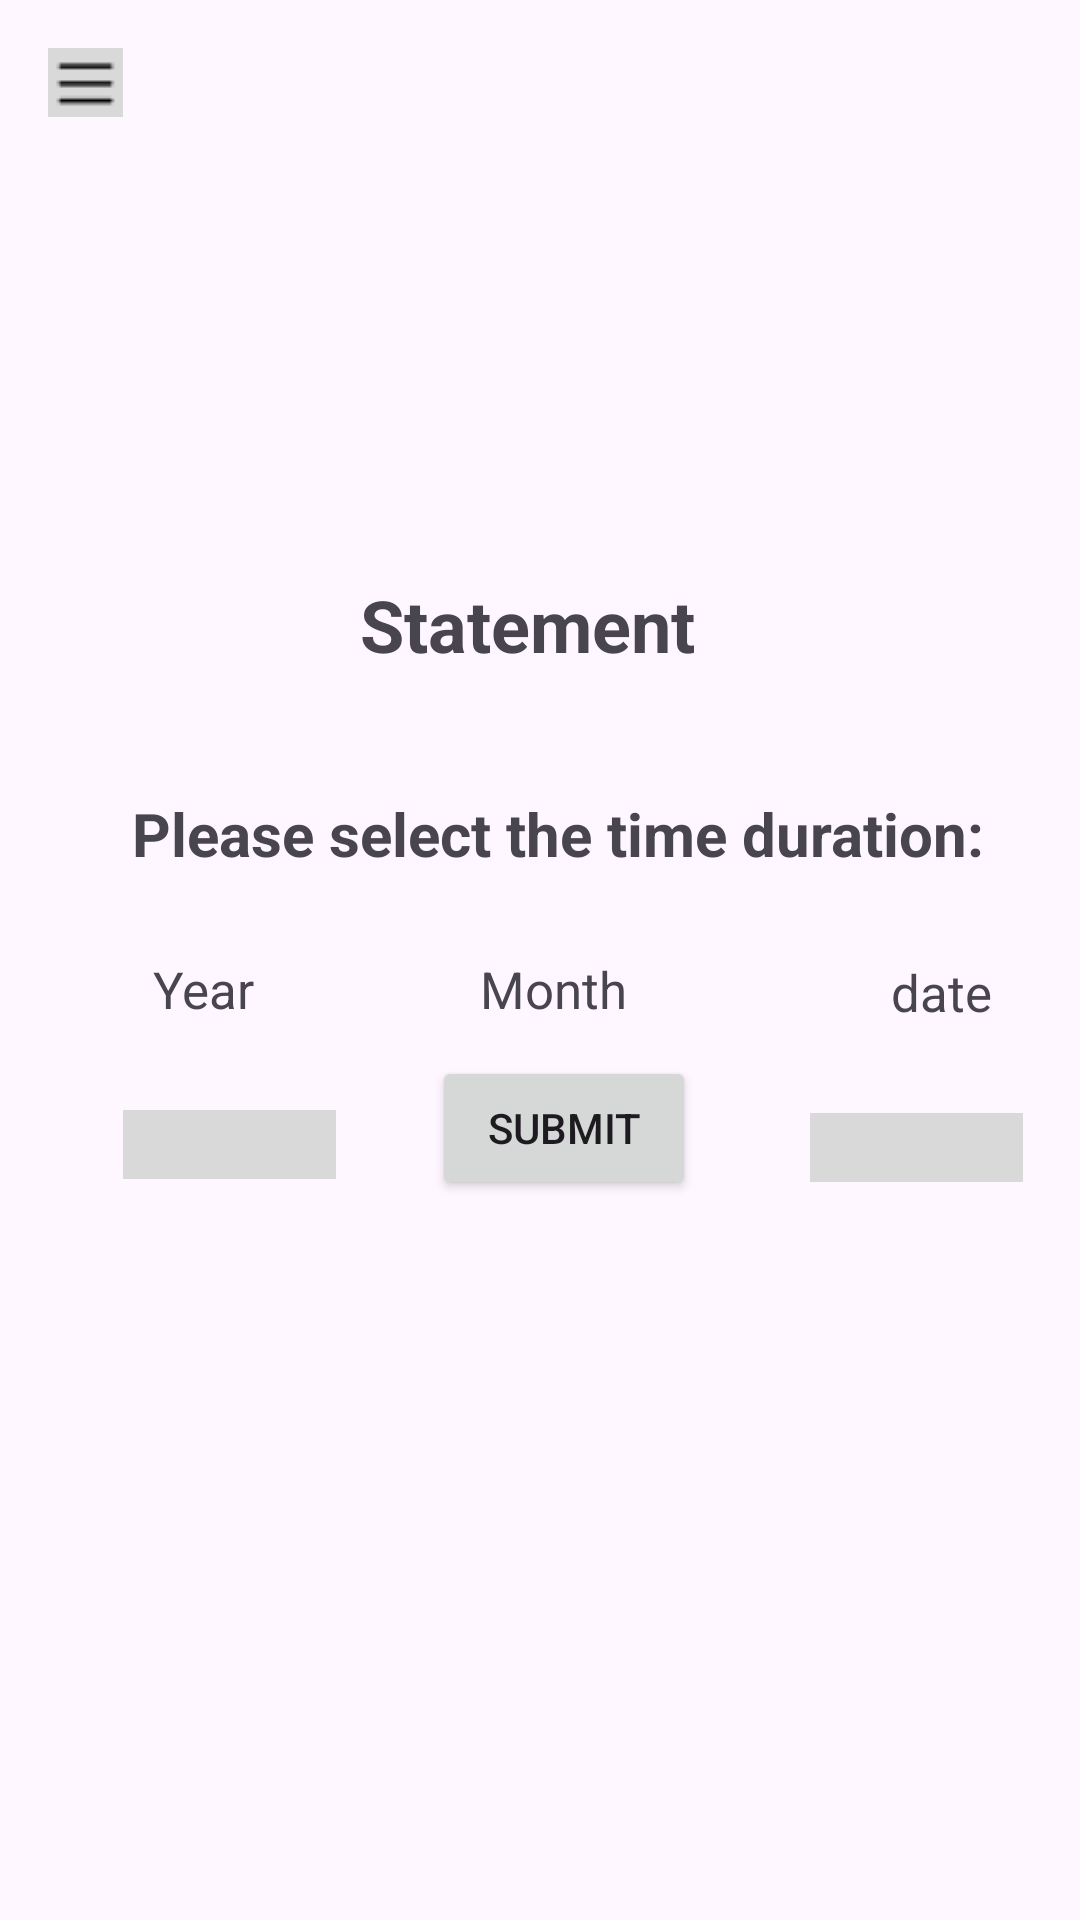

Named icons in this screenshot (1080px x 1920px) and their bounding boxes, (x1, y1, x2, y2):
hamburger: (48, 48, 123, 117)
